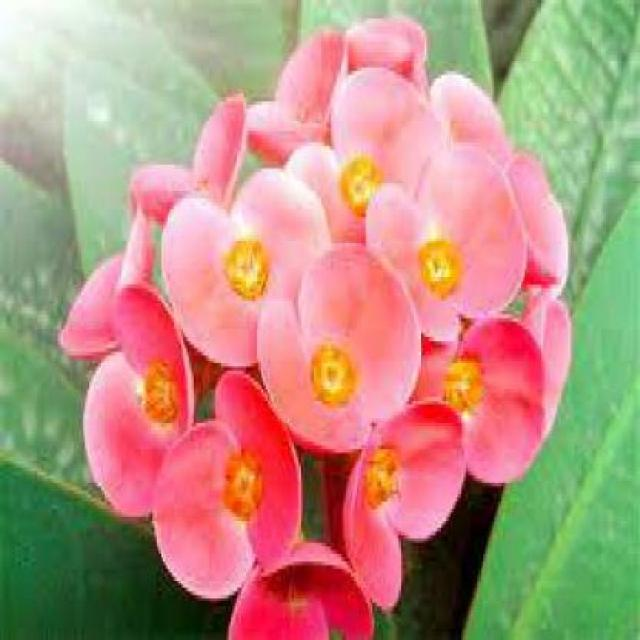flower: (132, 144, 377, 381), (246, 228, 451, 480), (271, 52, 478, 296), (129, 374, 311, 592), (358, 141, 537, 337), (332, 382, 477, 588), (72, 308, 202, 522), (413, 294, 547, 492), (223, 526, 379, 639)
